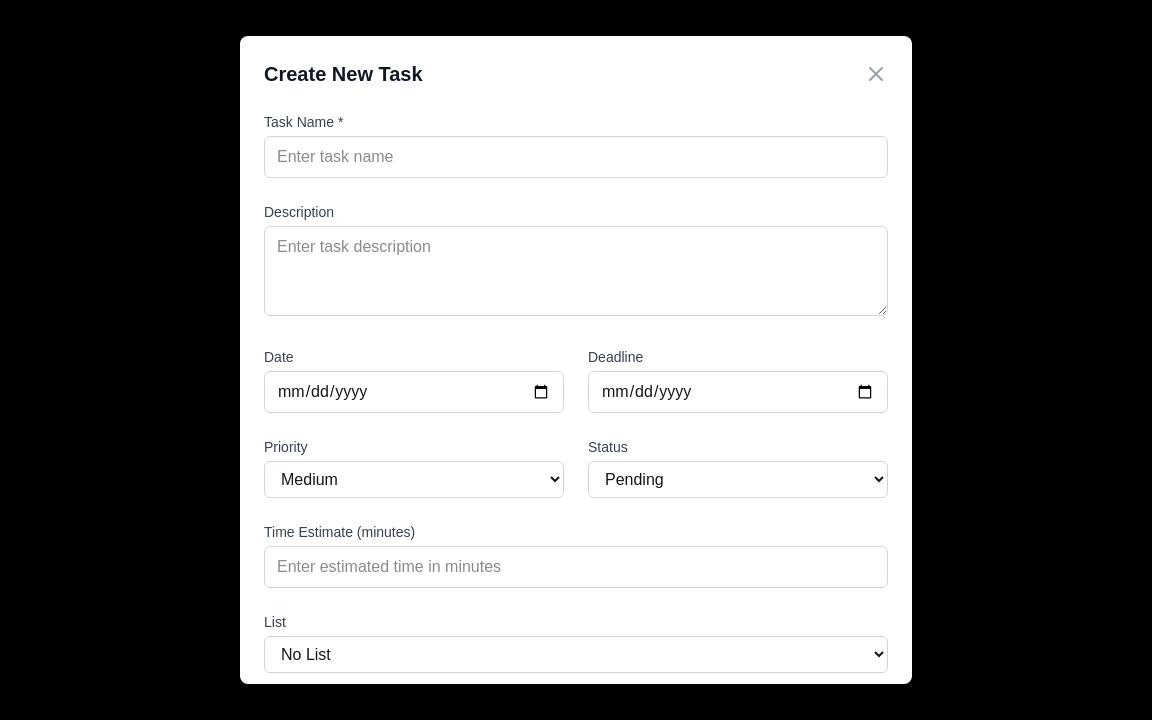
TaskForm › validates deadline after date
Type "2024-01-05" into the date field labelled "Date". click: (414, 392)
box: [264,371,564,413]
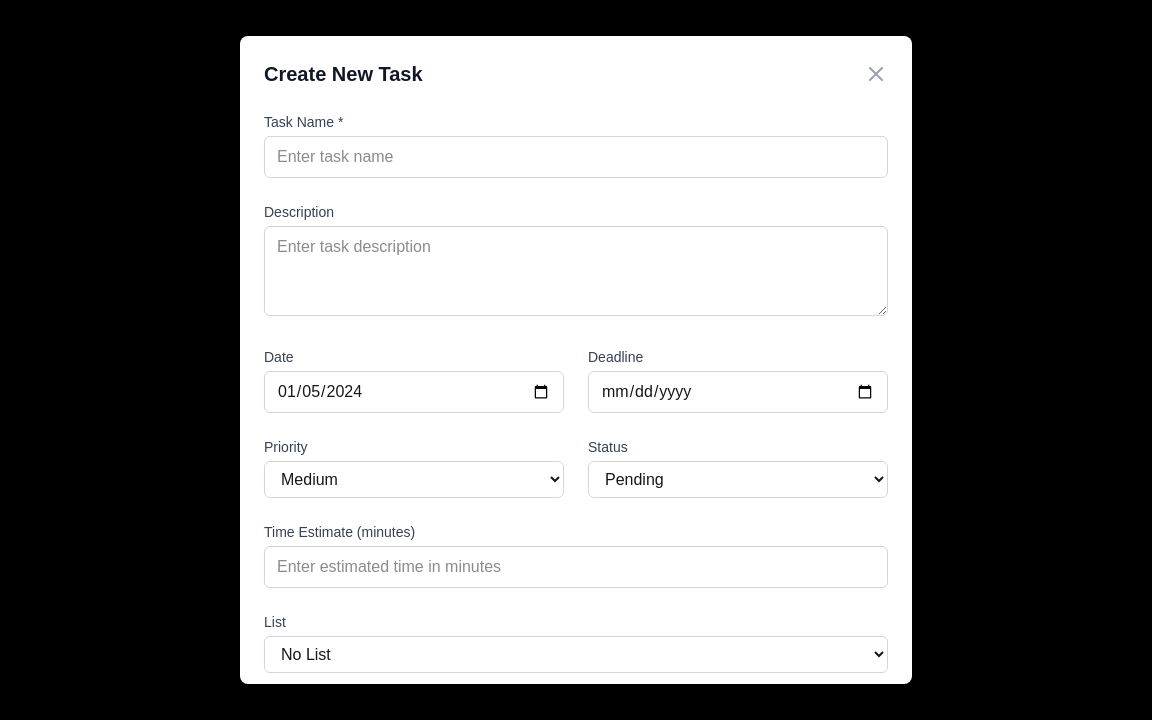
Type "2024-01-01" into the date field labelled "Deadline". click: (738, 392)
box: [588,371,888,413]
(page scrolled)
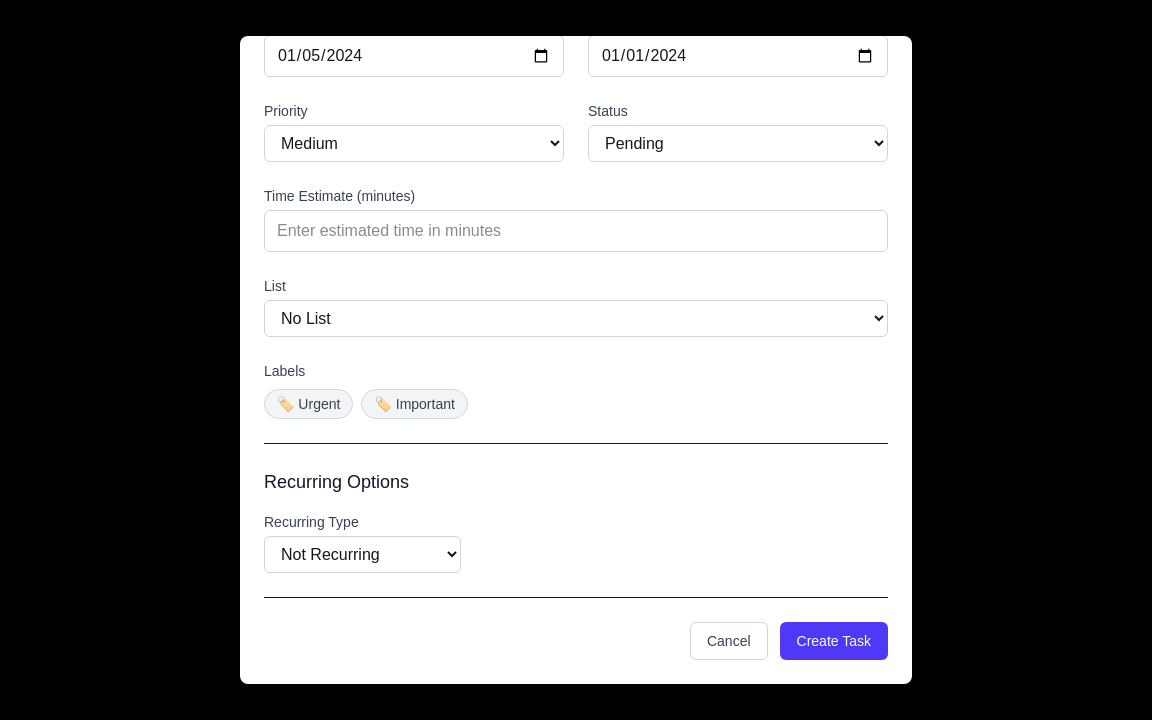
Click the button "Create Task". click: (834, 641)
box: [780,622,888,660]
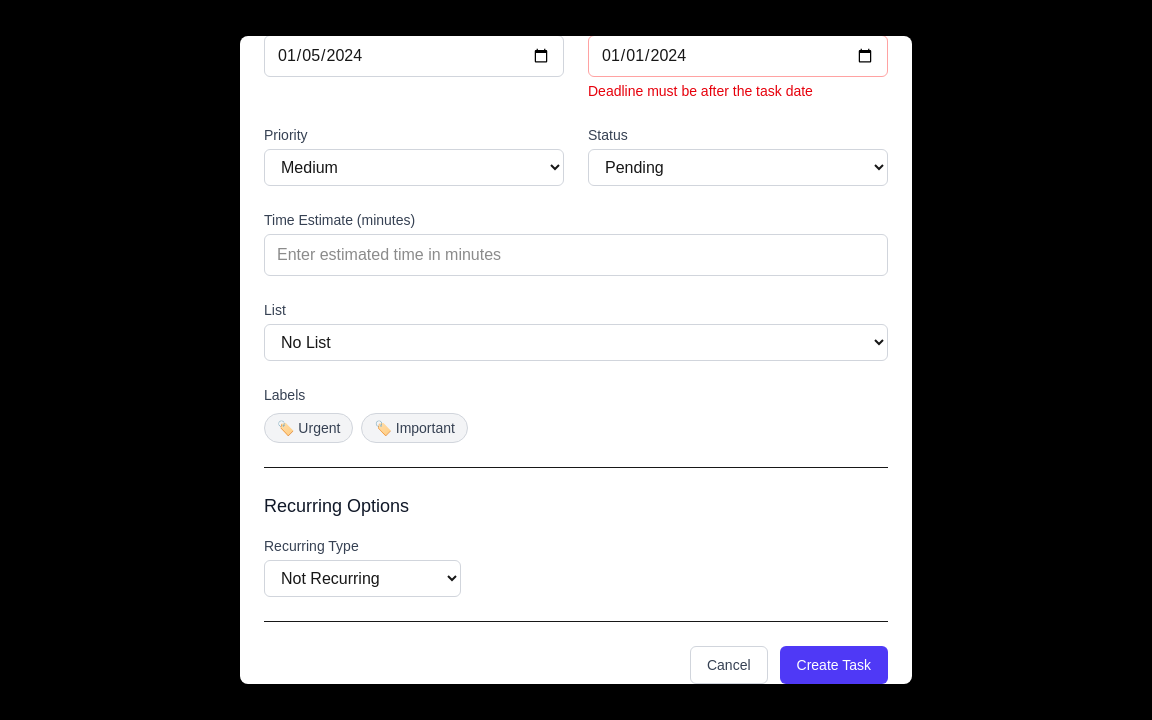
expect the text "Deadline must be after the task date" is shown: met, box [588,83,813,99]
